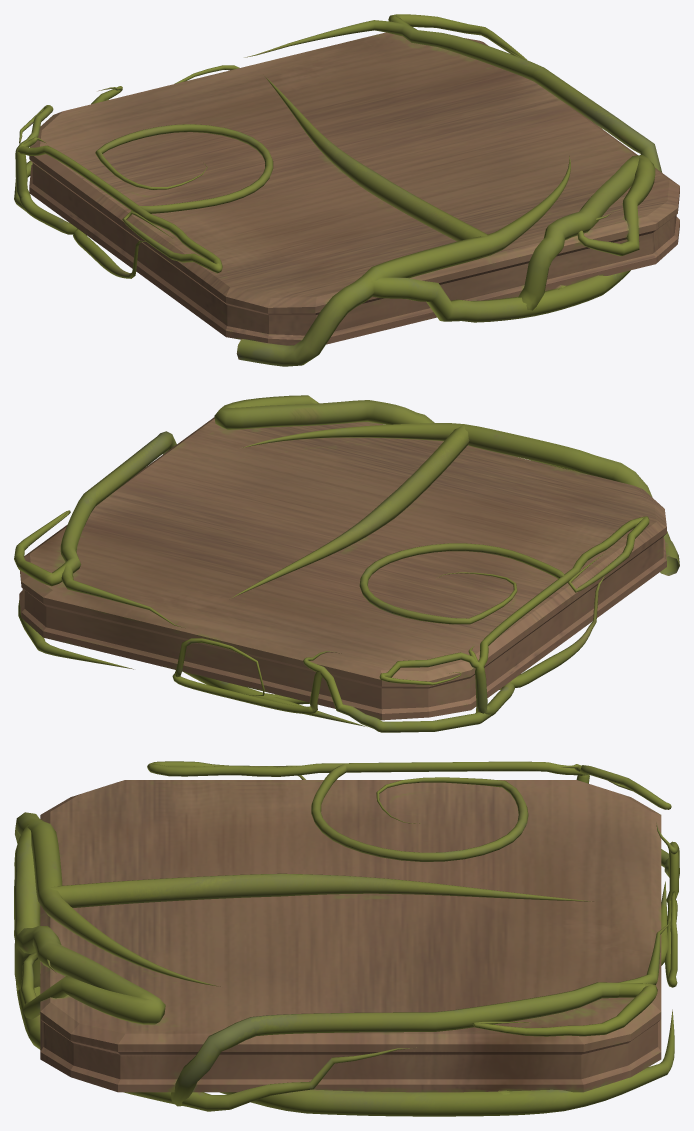
3 renders of one model, top to bottom at view 1: azimuth 30°, elevation 25°; view 2: azimuth 150°, elevation 25°; view 3: azimuth 270°, elevation 25°, orthographic. The views are drawn at different scales.
Parts seen in each view (by area): view 1: floor; view 2: floor; view 3: floor.
Boxes of the visible parts, left/top/right/bottom form: floor: left=14, top=14, right=679, bottom=366; floor: left=14, top=395, right=679, bottom=732; floor: left=14, top=761, right=679, bottom=1116.
Bounding box in the file's own units: 10803 × 1842 × 10862.
